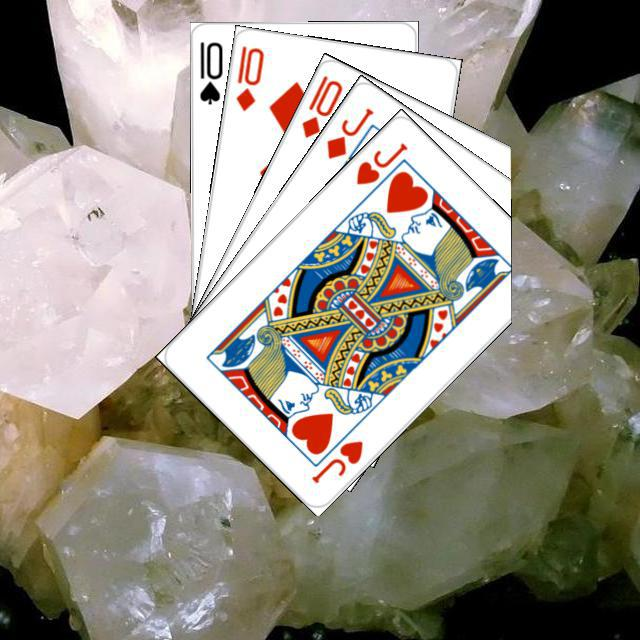10d: (296, 70, 345, 140), (230, 41, 266, 113)
10s: (194, 37, 225, 106)
Jd: (321, 103, 376, 161)
Jh: (351, 137, 410, 187), (306, 435, 365, 485)
